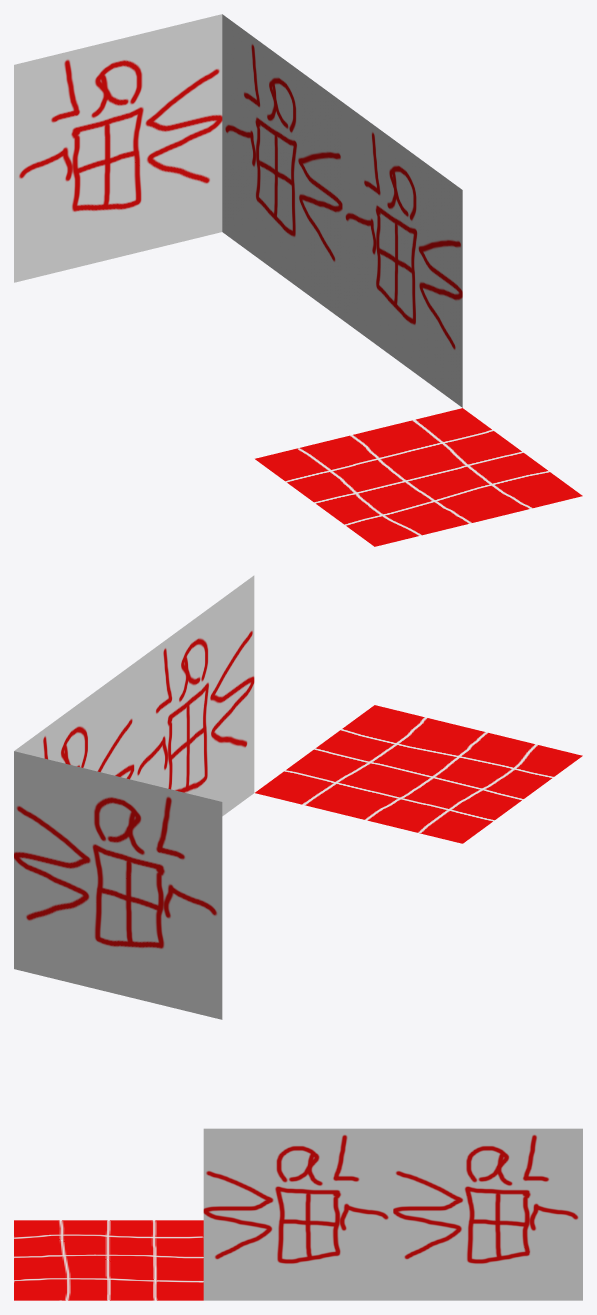
The model's file is TileMap.glb.
3 views of the same model, one above another, from view 1: azimuth 30°, elevation 25°; view 2: azimuth 150°, elevation 25°; view 3: azimuth 270°, elevation 25° (orthographic). The views are drawn at different scales.
Parts seen in each view (by area): view 1: WallCorner, Wall, Floor; view 2: WallCorner, Floor, Wall; view 3: Wall, WallCorner, Floor.
Part boxes in pixels (box(x1,y1,x2,y2)): WallCorner: box(14, 14, 342, 319); Wall: box(342, 102, 462, 407); Floor: box(255, 408, 582, 546); WallCorner: box(14, 663, 222, 1019); Floor: box(255, 705, 582, 843); Wall: box(134, 575, 254, 816); Wall: box(203, 1128, 393, 1300); WallCorner: box(393, 1128, 582, 1300); Floor: box(14, 1220, 203, 1300).
Size of what is drawn, in the model's own units: 2 by 2 by 6.
Materials: 2 (2 with a texture image).
